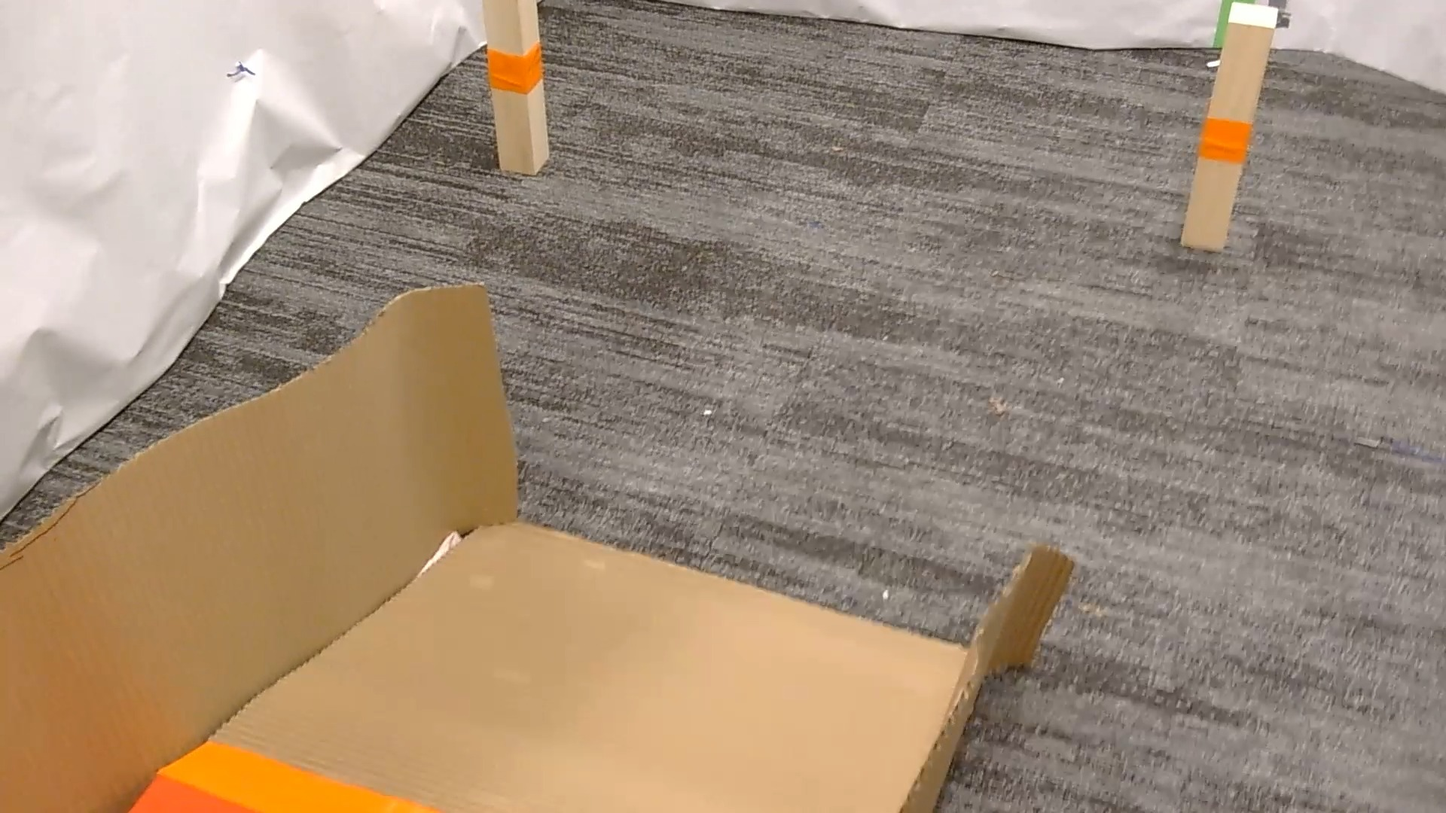Ramp: (0, 285, 1072, 812)
Wooden Block: (1182, 4, 1278, 251), (483, 0, 549, 174)
